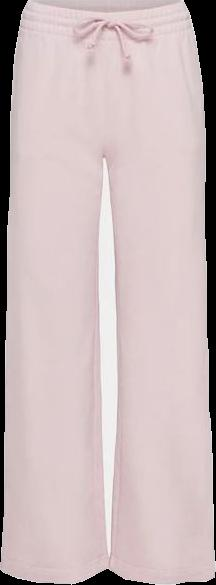Hemline: (0, 559, 109, 584), (107, 560, 215, 584)
Pantleg: (105, 0, 215, 584), (1, 0, 107, 582)
Waistline: (17, 22, 194, 48), (26, 0, 183, 18)
